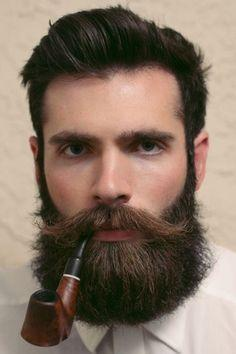trubka: (21, 239, 86, 346)
